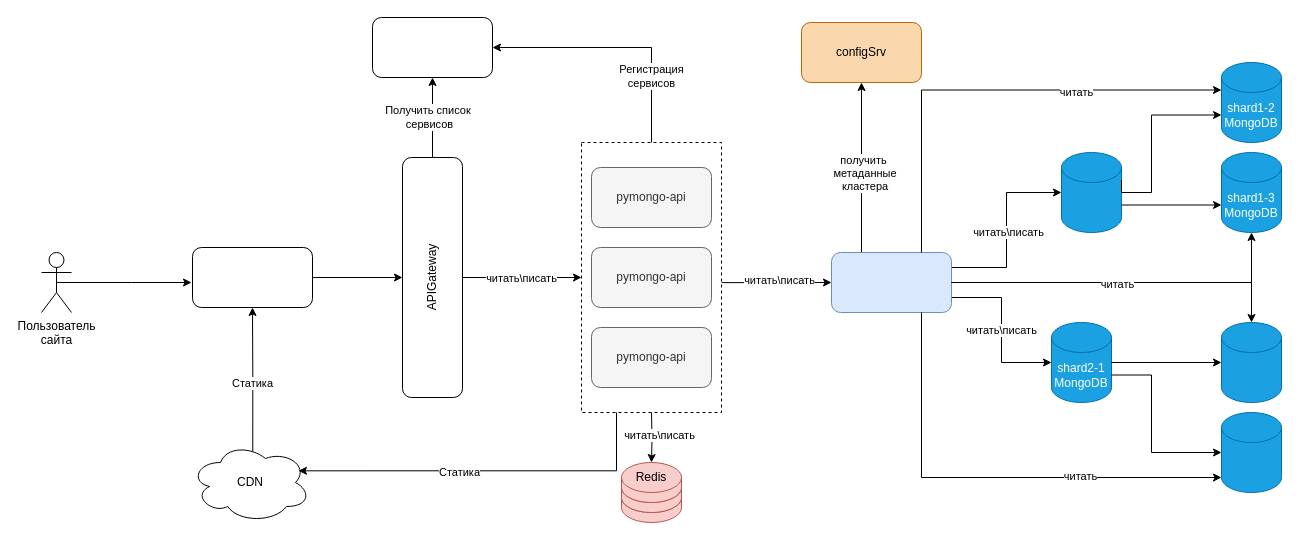
This 1299x540 diagram has some shape labels left out. The shapes that lost their labels are listed below. From the top down, each one's centre as x and y in pixels, then its label:
(432,47): Consul
(1091,192): shard1-1 MongoDB
(252,277): Сайт React/Nginx
(891,282): mongos_router
(1251,362): shard2-2 MongoDB
(1251,452): shard2-3 MongoDB
